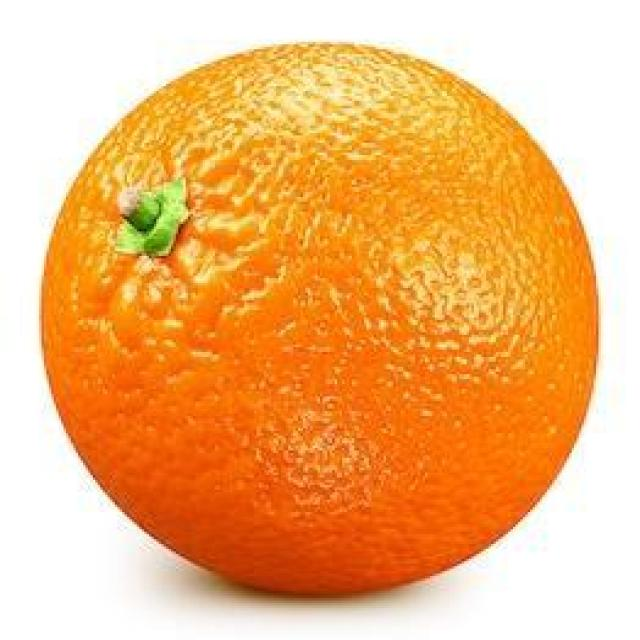orange: (39, 40, 600, 598)
